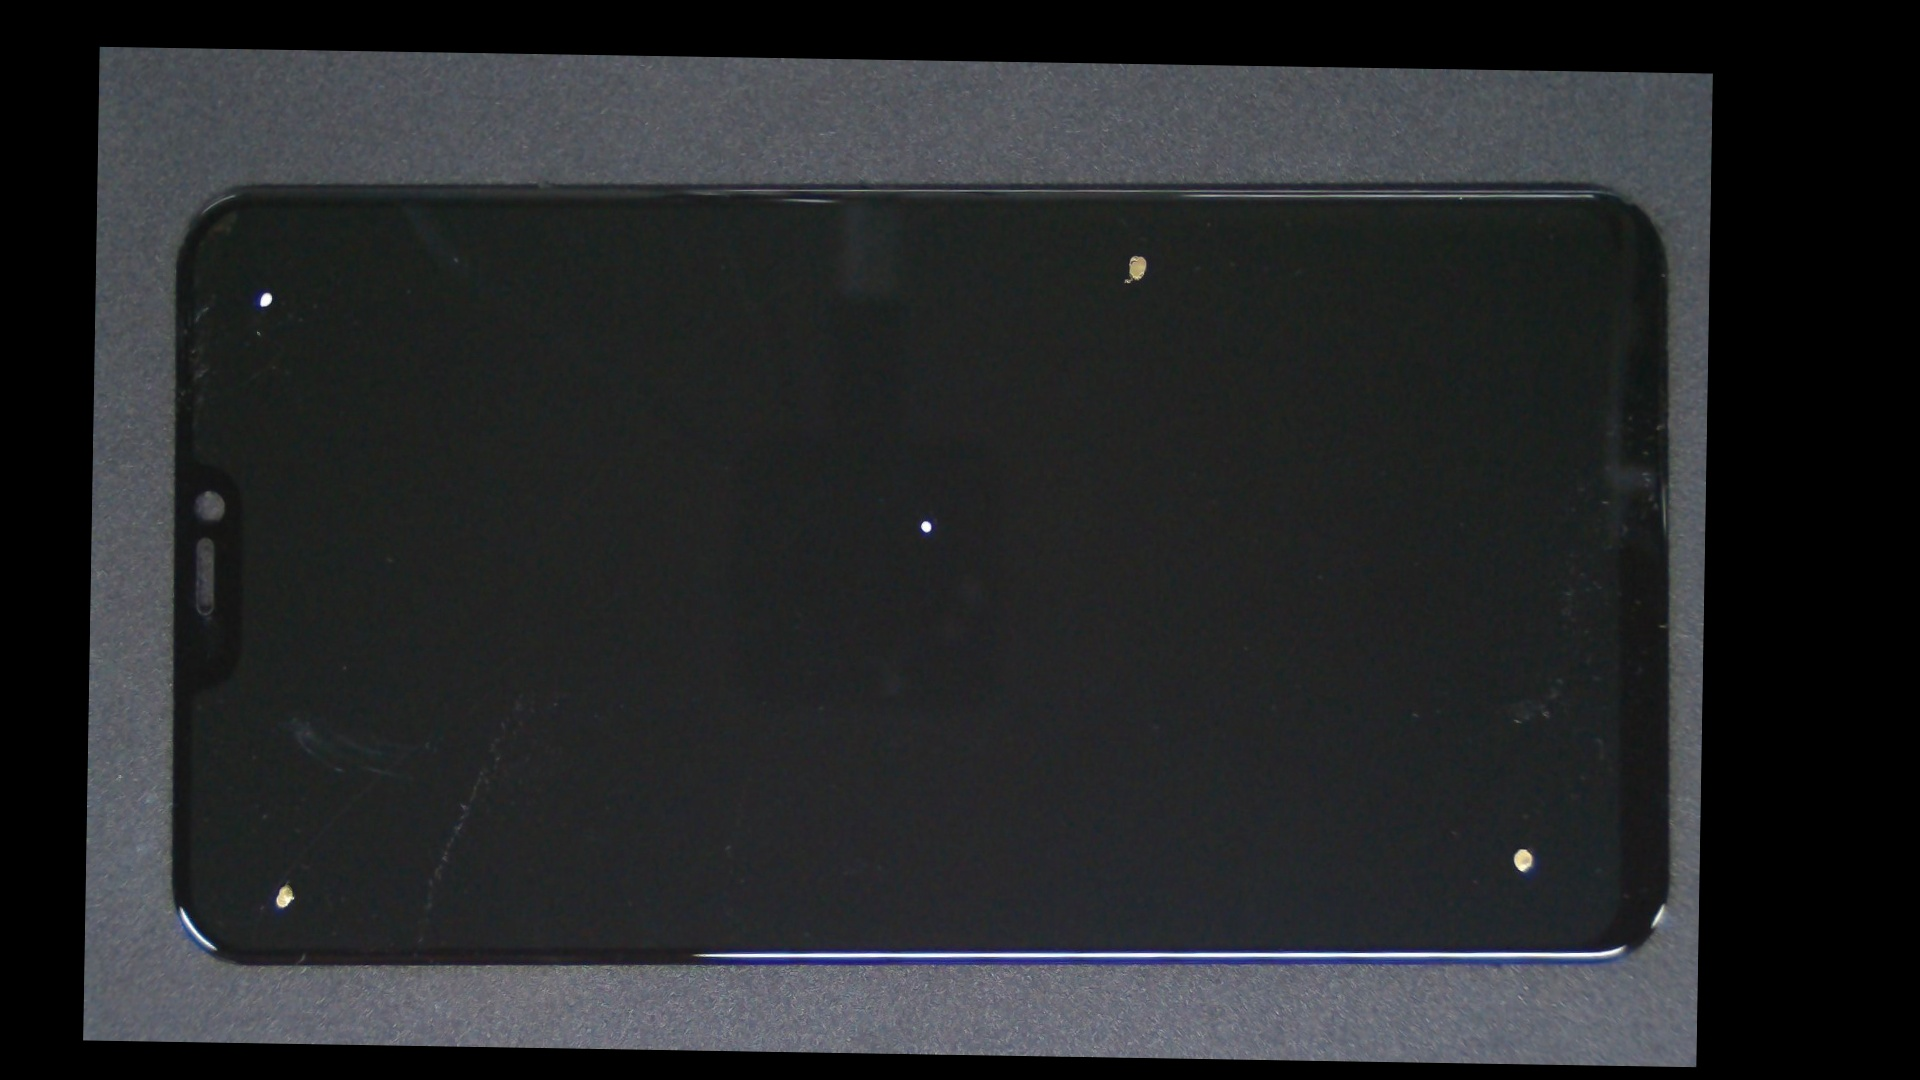oil: (803, 446, 1706, 1067), (506, 280, 1341, 757), (615, 150, 1655, 357), (183, 464, 392, 1046), (181, 167, 359, 411)
